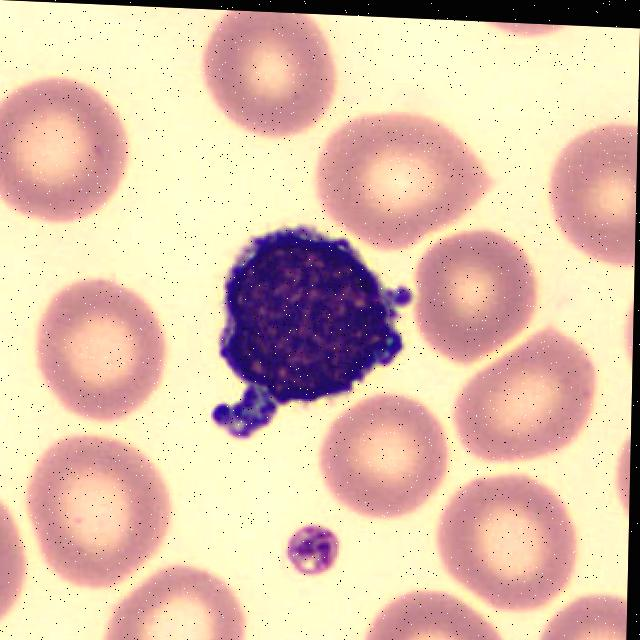lymphocyte: (205, 233, 397, 454)
platelets: (280, 524, 354, 583)
rbc: (314, 104, 489, 241), (28, 429, 170, 588), (407, 229, 545, 373), (435, 477, 578, 613), (0, 75, 126, 225), (37, 280, 164, 427), (448, 338, 593, 461), (201, 9, 337, 135), (311, 398, 449, 521), (550, 119, 638, 272), (109, 568, 249, 640), (346, 589, 516, 640), (0, 488, 33, 640), (541, 597, 627, 640), (616, 415, 631, 522), (483, 21, 572, 36), (616, 298, 634, 366)
